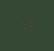seven: (19, 19, 25, 30)
three: (26, 19, 32, 31)
